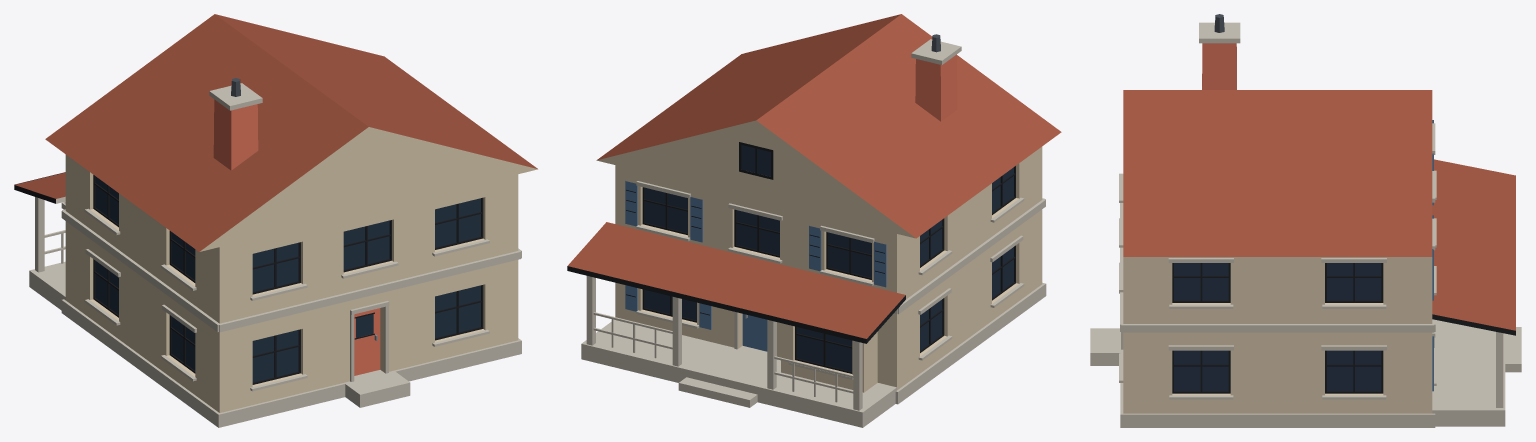
Rendered from bld_house_c.glb.
3 views of the same model, side by side, from view 1: azimuth 30°, elevation 25°; view 2: azimuth 150°, elevation 25°; view 3: azimuth 270°, elevation 25° (orthographic). The views are drawn at different scales.
Parts seen in each view (by area): view 1: Body; view 2: Body; view 3: Body.
Boxes of the visible parts, x1,y1,x2,y2 form: Body: [14, 14, 537, 427]; Body: [567, 14, 1061, 427]; Body: [1090, 14, 1521, 427].
Size of the model in its own units: 10.8 by 8.99 by 11.85.
